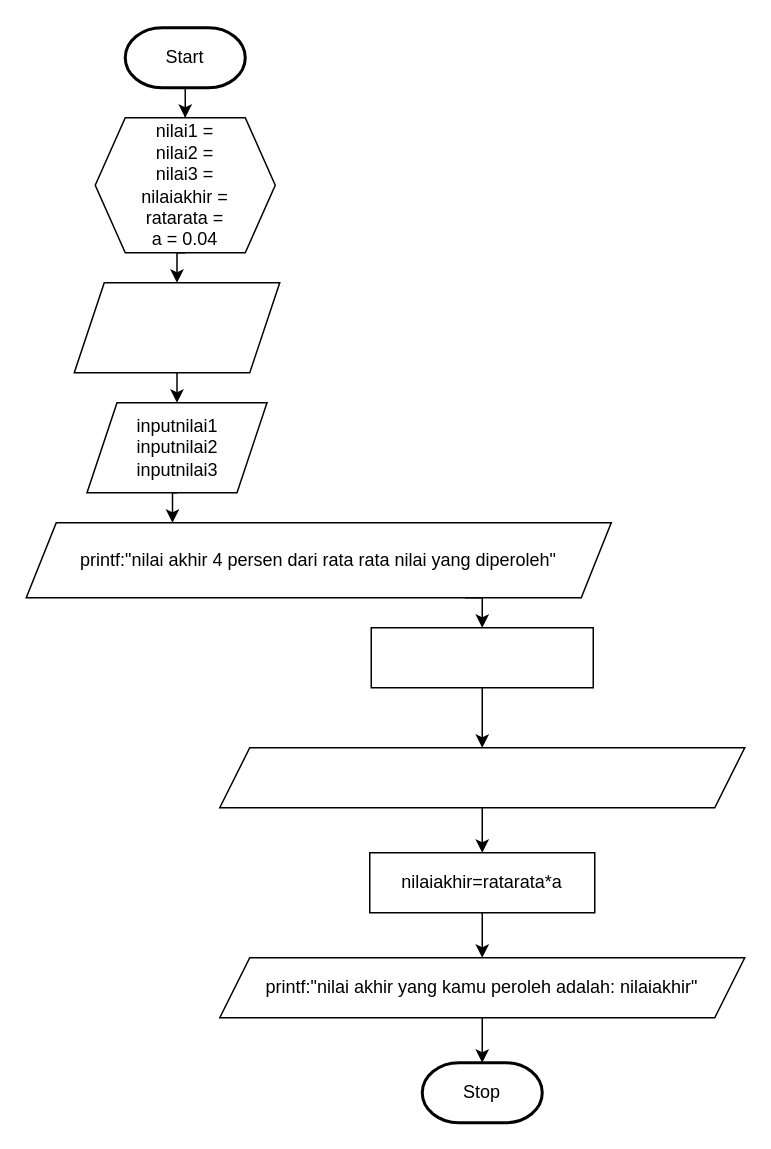
Image size: 771x1149. Some labels were removed from this diagram. Here are the shapes that lost their labels. From the top down, the box of each, then its label:
(73, 281, 280, 373): printf:">>> NILAI PRAKTIKUM <<<"
(370, 626, 593, 688): ratarata=(nilai1+nilai2+nilai3)/3
(218, 746, 745, 808): printf:"rata-rata nilai yang kamu peroleh adalah: ratarata"
